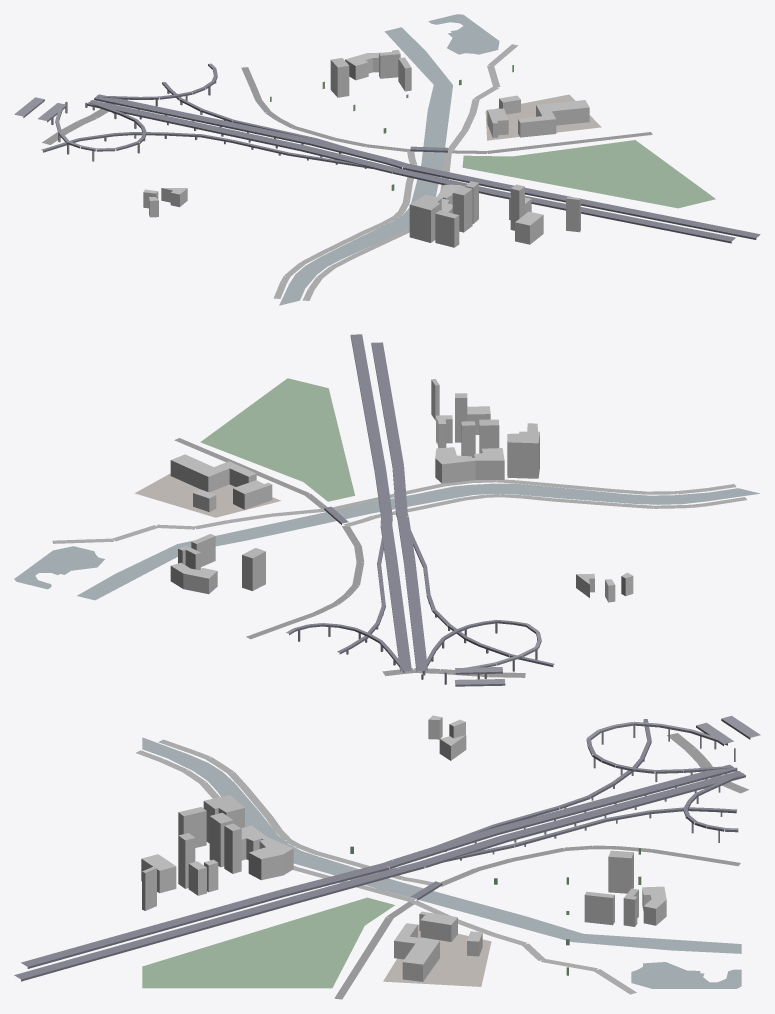
The picture shows the model from 3 angles, top to bottom: view 1: azimuth 30°, elevation 25°; view 2: azimuth 150°, elevation 25°; view 3: azimuth 270°, elevation 25°; orthographic projection. The views are drawn at different scales.
Bounding box in the file's own units: 544 × 46.4 × 623.
